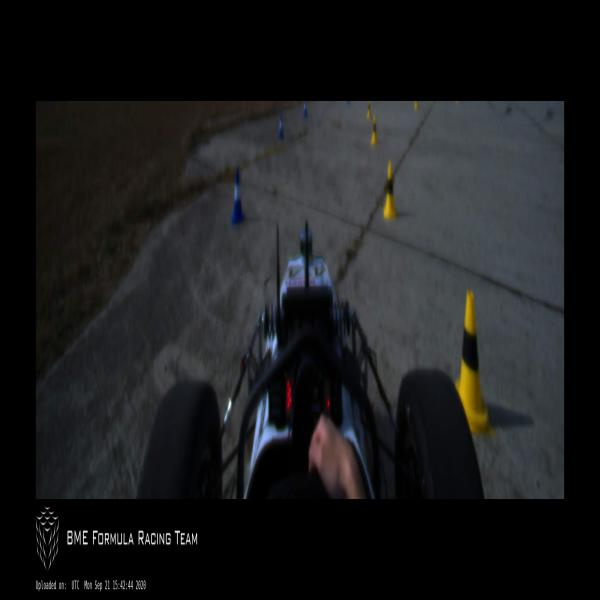blue_cone: (232, 169, 244, 224), (278, 113, 284, 140), (303, 101, 307, 118)
yellow_cone: (455, 291, 494, 435), (384, 163, 397, 218), (372, 116, 378, 144), (367, 101, 371, 118)
